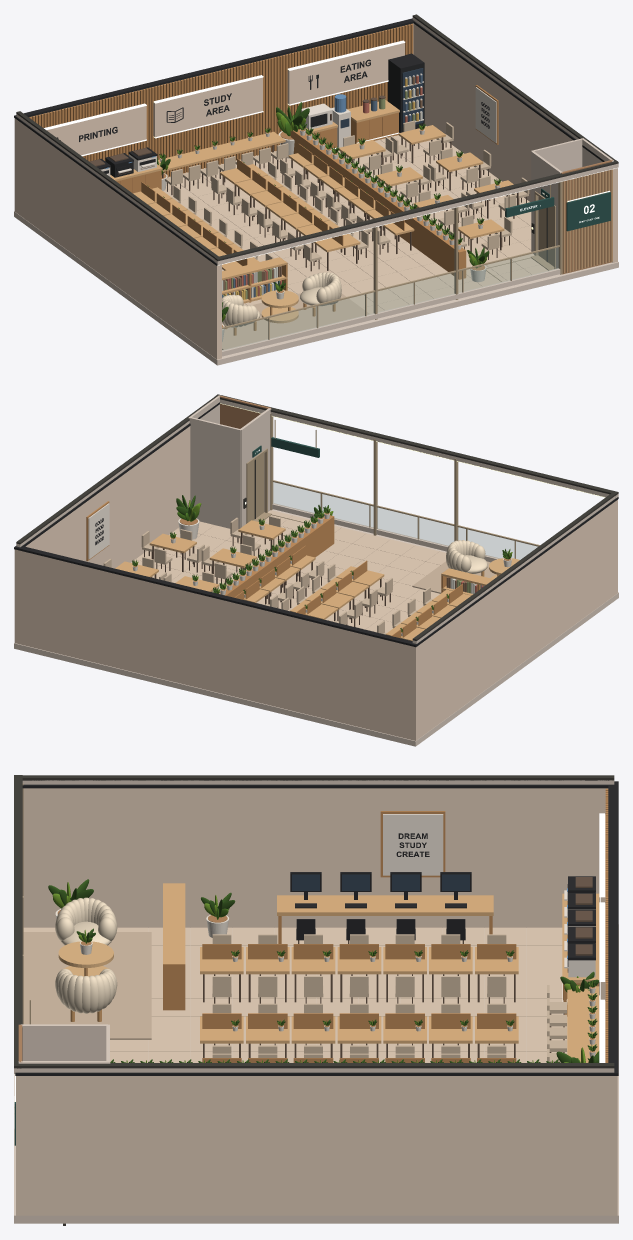
File: Level_02.glb
3 renders of one model, top to bottom at view 1: azimuth 30°, elevation 25°; view 2: azimuth 150°, elevation 25°; view 3: azimuth 270°, elevation 25°, orthographic. The views are drawn at different scales.
Parts seen in each view (by area): view 1: Second floor slab, walls and entry, Slatted wall and illuminated pictogram signs, Facade | fluted tower, floor marker and cornice, Gallery frontage | glazed parapet, Study carrels.001, Refreshment counter, microwave, water cooler and drinks refr, Lounge seating and coffee table, Aligned elevator | landing doors and well, Floor plate | lift well opening, Study carrels.002, Window study bar and seven stools, Study carrels (+11 smaller); view 2: Second floor slab, walls and entry, Aligned elevator | landing doors and well, Facade | fluted tower, floor marker and cornice, Gallery frontage | glazed parapet, Floor plate | lift well opening, Study carrels.001, Cafe tables and chairs.002, Study carrels.002, Lounge seating and coffee table, Study carrels, Fluted planter partition, Cafe tables and chairs.003 (+5 smaller); view 3: Second floor slab, walls and entry, Study carrels, Facade | fluted tower, floor marker and cornice, Lounge seating and coffee table, Study carrels.001, Computer workstations, Floor plate | lift well opening, Framed wall typography, Five multifunction printers and cabinetry, Aligned elevator | landing doors and well, Window study bar and seven stools, Double-tier library shelf (+4 smaller).
Part boxes in pixels (x1,y1,x2,y2): Second floor slab, walls and entry: (14,18,617,359); Slatted wall and illuminated pictogram signs: (29,23,413,177); Facade | fluted tower, floor marker and cornice: (16,14,618,319); Gallery frontage | glazed parapet: (222,245,560,356); Study carrels.001: (211,158,368,271); Refreshment counter, microwave, water cooler and drinks refr: (301,53,424,150); Lounge seating and coffee table: (222,272,369,349); Aligned elevator | landing doors and well: (531,138,613,274); Floor plate | lift well opening: (14,211,618,365); Study carrels.002: (280,143,414,254); Window study bar and seven stools: (158,131,288,194); Study carrels: (133,182,273,270); Second floor slab, walls and entry: (14,402,618,740); Aligned elevator | landing doors and well: (188,395,271,529); Facade | fluted tower, floor marker and cornice: (16,394,618,643); Gallery frontage | glazed parapet: (272,480,539,562); Floor plate | lift well opening: (14,509,618,746); Study carrels.001: (281,560,392,626); Cafe tables and chairs.002: (141,529,259,584); Study carrels.002: (234,545,324,608); Lounge seating and coffee table: (412,540,519,593); Study carrels: (377,584,470,640); Fluted planter partition: (219,515,334,597); Cafe tables and chairs.003: (230,516,292,557); Second floor slab, walls and entry: (15,781,618,1215); Study carrels: (200,934,518,1003); Facade | fluted tower, floor marker and cornice: (14,775,614,1145); Lounge seating and coffee table: (23,897,151,1039); Study carrels.001: (200,1003,518,1057); Computer workstations: (277,872,493,943); Floor plate | lift well opening: (14,924,618,1223); Framed wall typography: (380,811,445,877); Five multifunction printers and cabinetry: (562,876,599,1016); Aligned elevator | landing doors and well: (18,1024,110,1225); Window study bar and seven stools: (547,985,599,1062); Double-tier library shelf: (163,883,185,1010).
Bounding box in the file's own units: 16.44 × 4.34 × 14.4.
